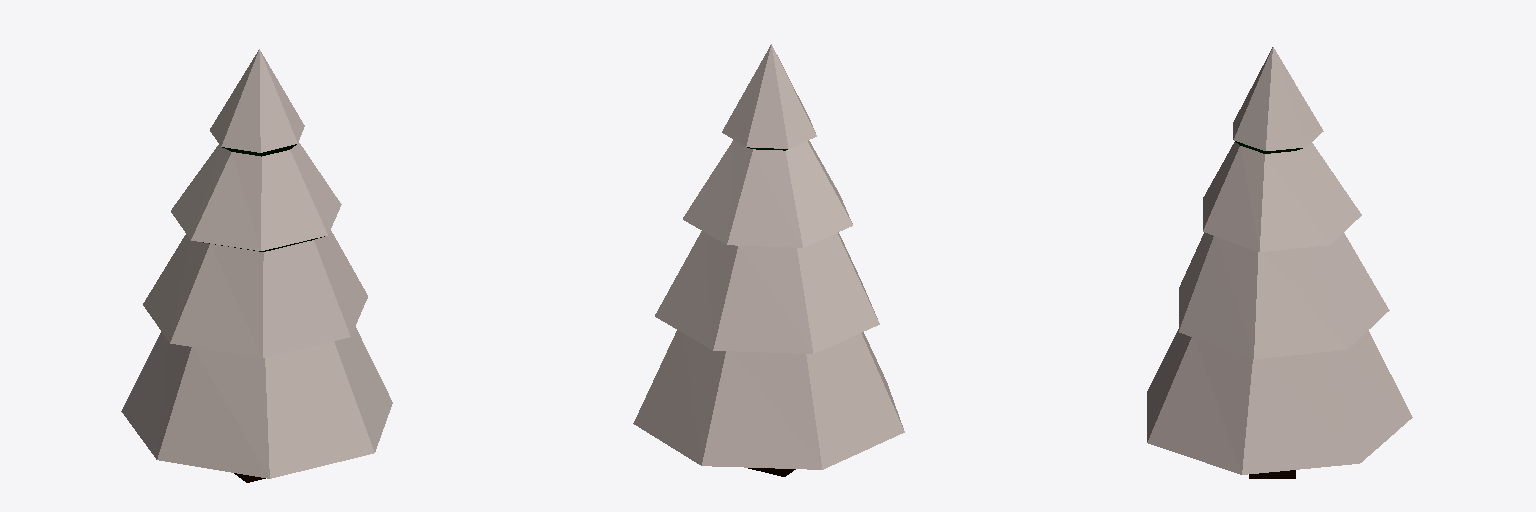
File: pine.obj
The picture shows the model from 3 angles: view 1: azimuth 30°, elevation 25°; view 2: azimuth 150°, elevation 25°; view 3: azimuth 270°, elevation 25°; orthographic projection.
Parts seen in each view (by area): view 1: Cone; view 2: Cone; view 3: Cone.
Boxes of the visible parts, box(x1,y1,x2,y2) form: Cone: box(121, 49, 392, 478); Cone: box(633, 44, 904, 469); Cone: box(1147, 47, 1412, 474).
Size of the model in its own units: 1.95 by 3.31 by 1.9.